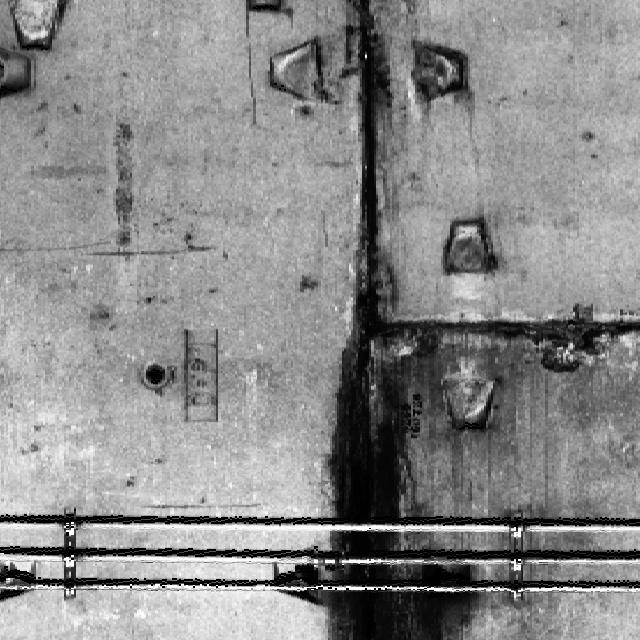leakage: (322, 0, 484, 639)
